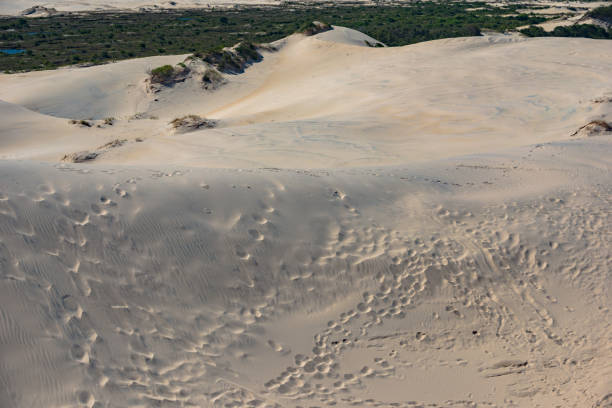human_foot_print: (52, 254, 88, 280), (121, 364, 150, 390), (74, 384, 104, 408), (221, 392, 258, 408), (61, 292, 82, 318), (164, 370, 182, 400), (68, 348, 96, 365), (70, 204, 89, 226), (62, 233, 93, 246), (262, 376, 296, 386), (373, 286, 396, 300), (254, 199, 272, 216), (92, 204, 108, 223), (103, 192, 122, 206), (244, 227, 258, 245), (252, 212, 270, 226), (379, 357, 396, 371), (120, 176, 133, 192), (374, 306, 408, 312), (355, 364, 374, 374), (320, 325, 331, 342), (337, 370, 362, 377), (397, 270, 416, 279), (352, 304, 372, 312), (308, 352, 321, 364), (234, 248, 248, 259), (409, 237, 423, 247), (288, 357, 303, 366), (331, 318, 346, 327), (313, 341, 331, 343)
